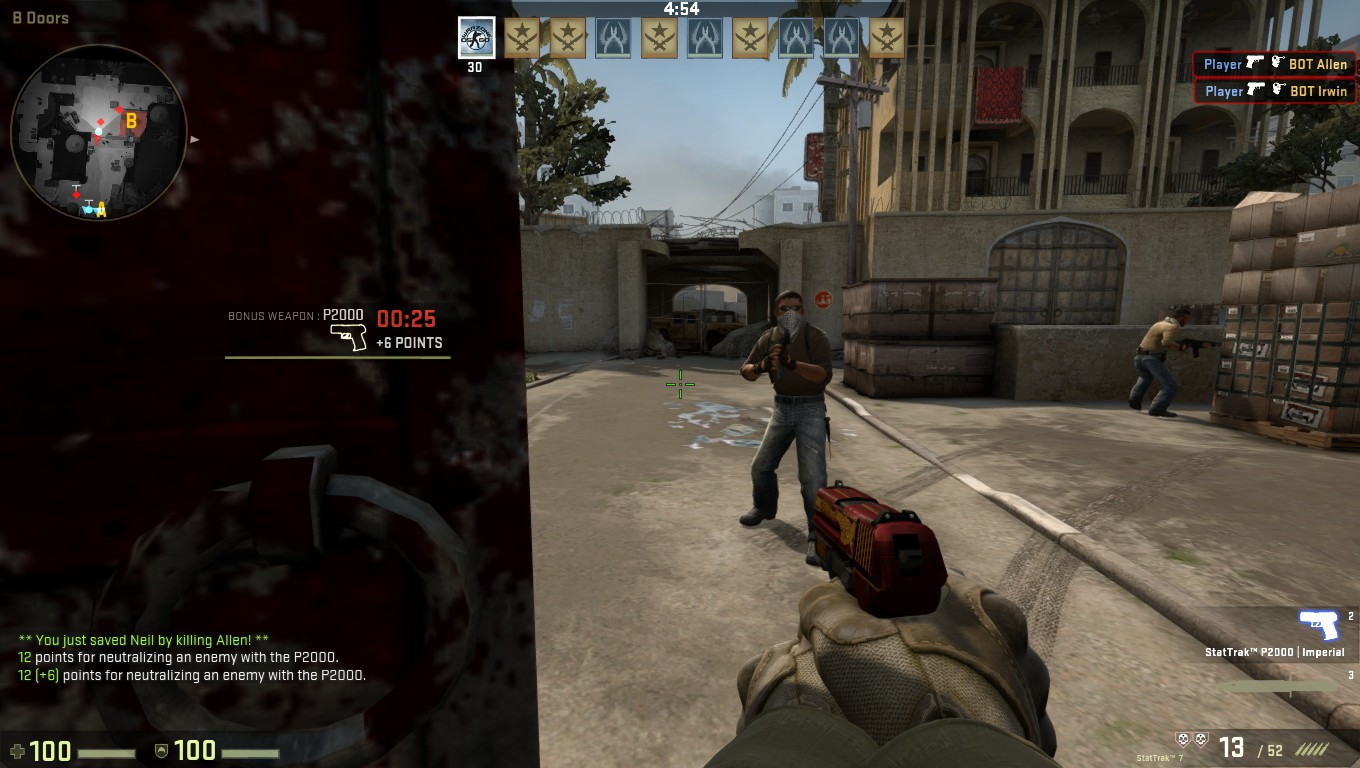t: (745, 284, 841, 531), (1130, 299, 1193, 412)
th: (770, 285, 807, 342), (1167, 305, 1196, 329)
